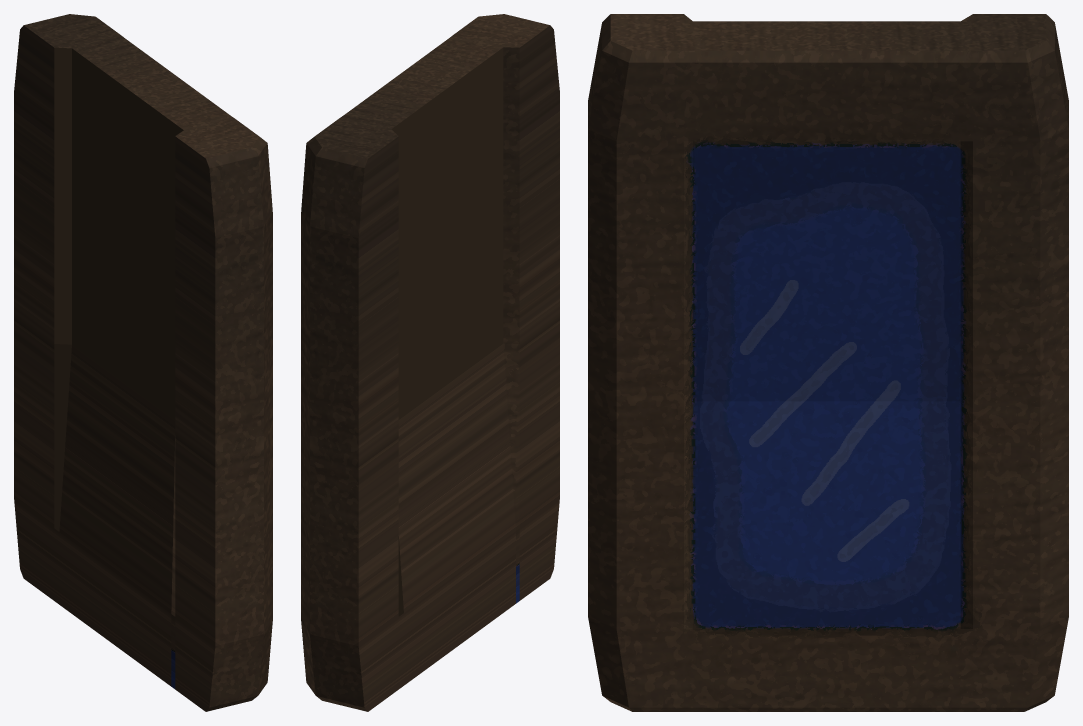
Rendered from environnement__assets_taverne__window2 2.fbx.
3 views of the same model, side by side, from view 1: azimuth 30°, elevation 25°; view 2: azimuth 150°, elevation 25°; view 3: azimuth 270°, elevation 25° (orthographic). The views are drawn at different scales.
Visible parts, largest first — view 1: Cube; view 2: Cube; view 3: Cube.
Boxes of the visible parts, x1,y1,x2,y2 form: Cube: (14,14,272,711); Cube: (301,14,559,711); Cube: (588,14,1068,711).
Size of the model in its own units: 200 by 1522 by 1003.
